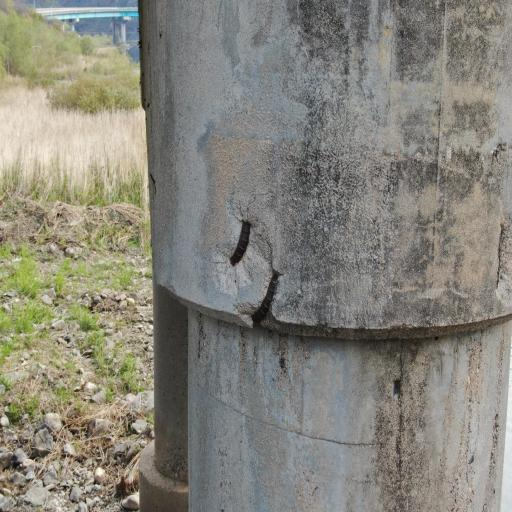exposed_rebar: (252, 274, 278, 322), (230, 220, 251, 267), (496, 224, 504, 288), (150, 172, 156, 194)
